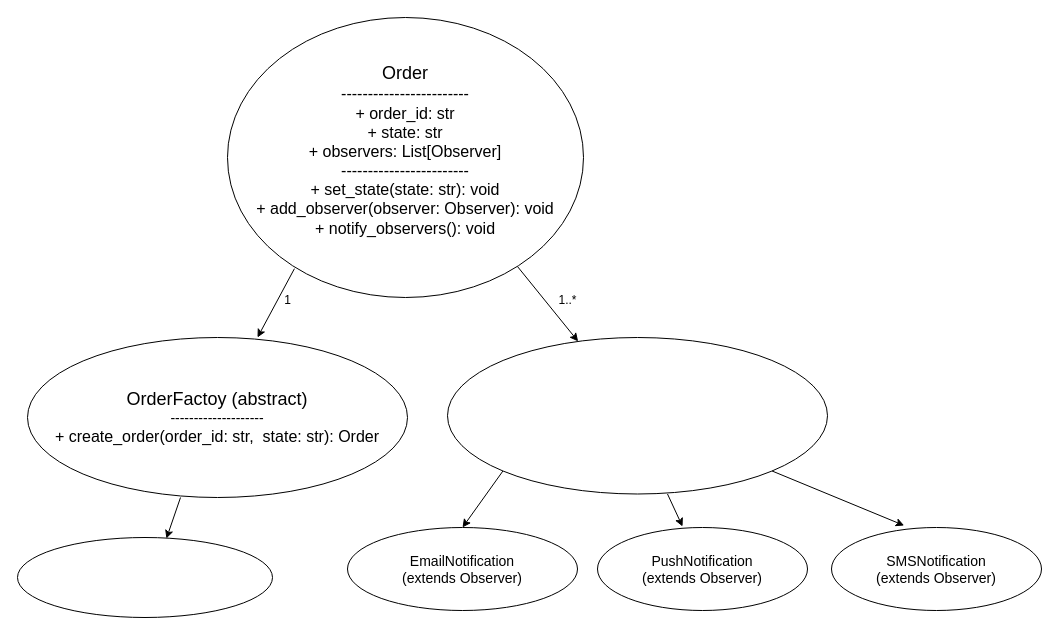
Some shapes in this 1059 by 635 pixel diagram are drawn without their labels. The shapes that lost their labels are listed below. From the top down, each one's box as (x1, y1, x2, y2) in pixels, then its label:
(446, 336, 828, 494): Observer (abstract) -------------------- + update(order: Order): void
(16, 536, 272, 618): ConcreteOrderFactory (extends OrderFactory)
